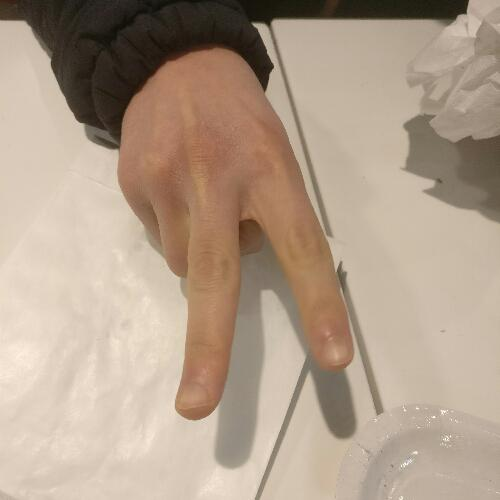scissors: (111, 45, 378, 425)
